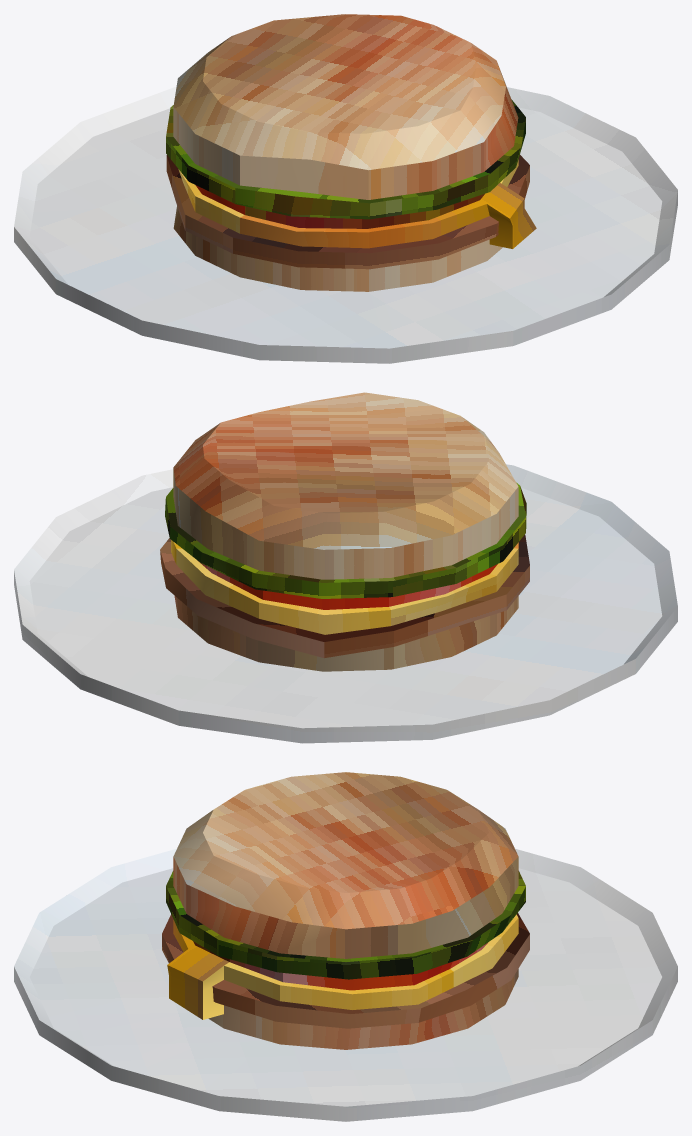
The model's file is Burger.glb.
The picture shows the model from 3 angles, top to bottom: view 1: azimuth 30°, elevation 25°; view 2: azimuth 150°, elevation 25°; view 3: azimuth 270°, elevation 25°; orthographic projection.
Visible parts, largest first — view 1: Burger; view 2: Burger; view 3: Burger.
Part boxes in pixels (box(x1,y1,x2,y2)): Burger: box(14, 14, 677, 363); Burger: box(14, 392, 677, 743); Burger: box(14, 772, 677, 1121).
Bounding box in the file's own units: 1.2 × 0.3009 × 1.2.
2 materials, 2 textured.
